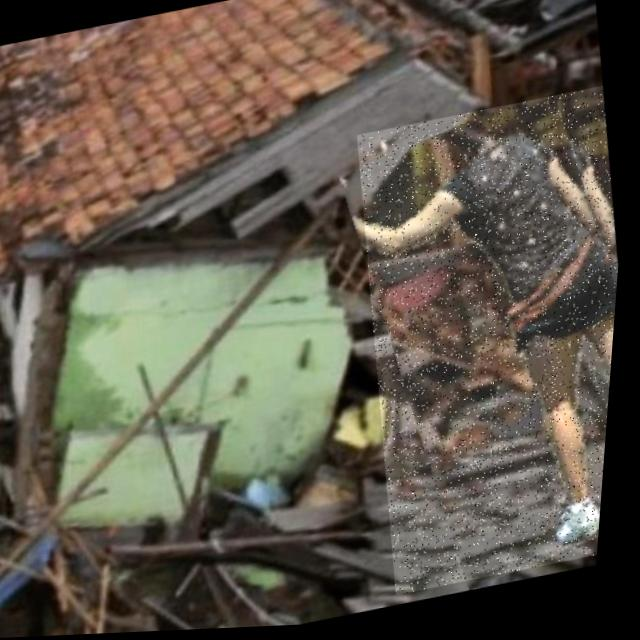Person in Rubble: (332, 91, 633, 602)
